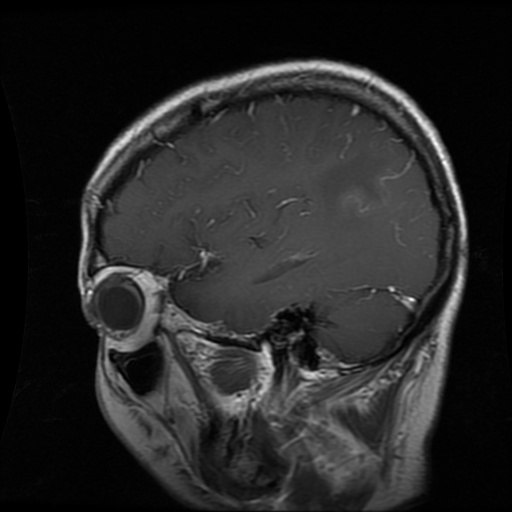glioma: (318, 149, 398, 218)
